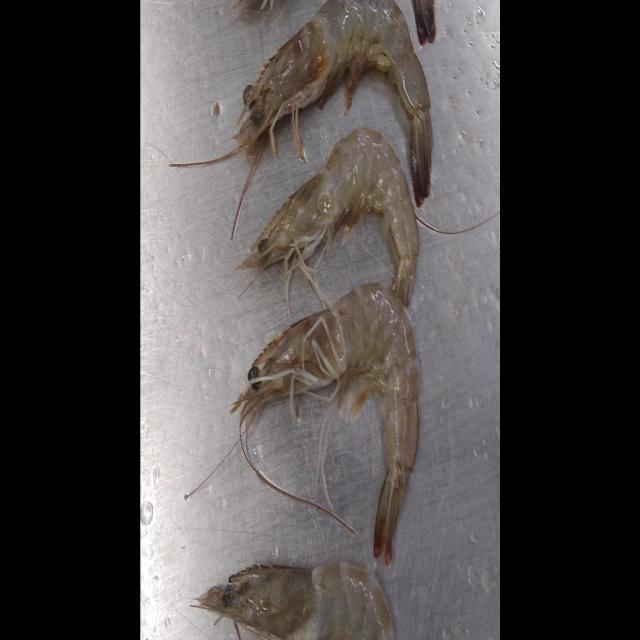shrimp: (231, 282, 418, 564), (214, 0, 432, 207), (238, 127, 419, 307), (198, 562, 392, 640)
